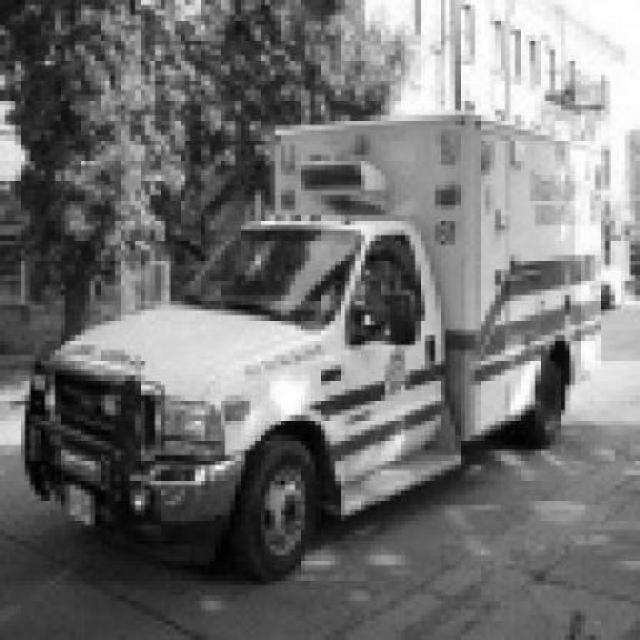Ambulance: (24, 111, 604, 585)
